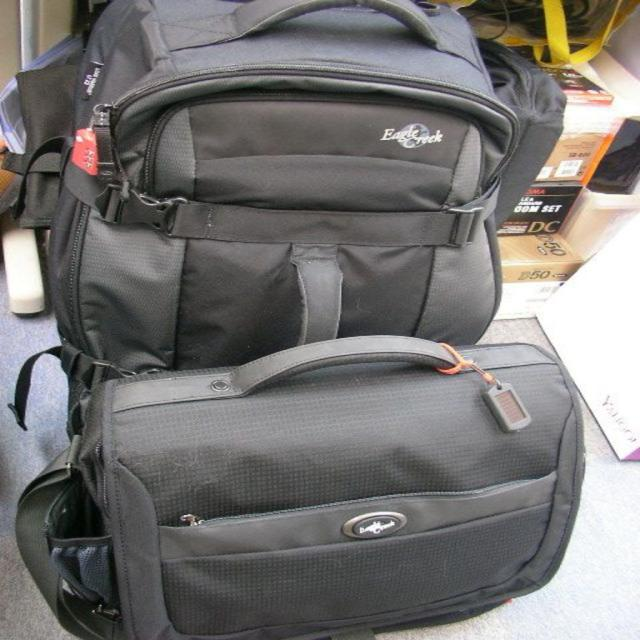backpack: (8, 340, 592, 640), (23, 0, 494, 367)
